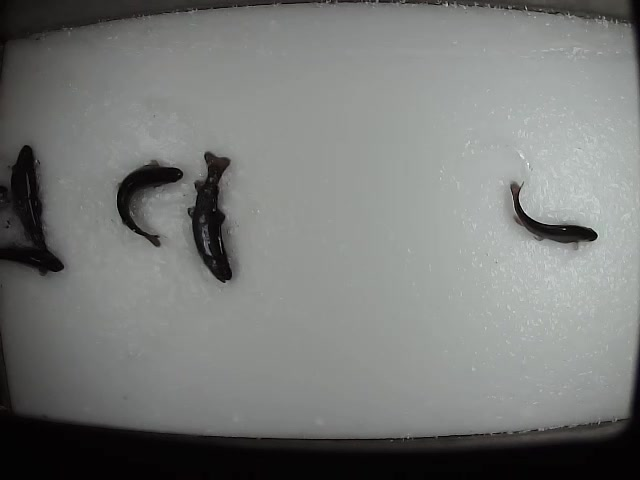fish: (113, 157, 184, 249), (507, 179, 599, 249), (187, 149, 234, 285), (10, 142, 57, 276)
